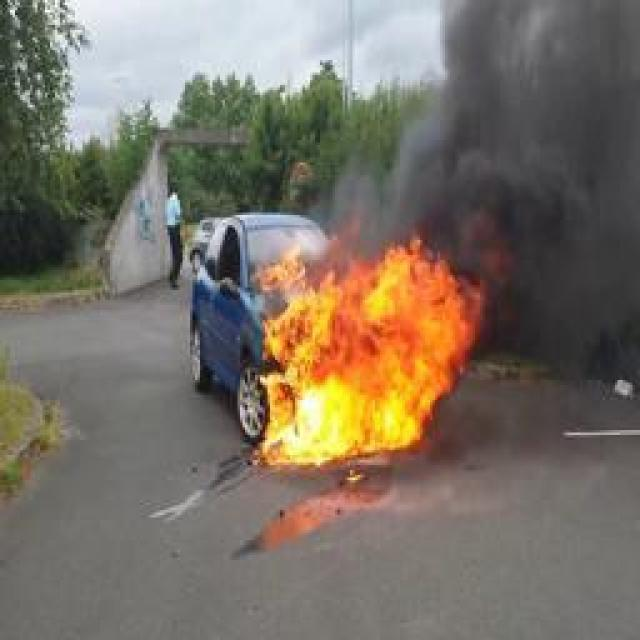Fire: (258, 230, 482, 462)
